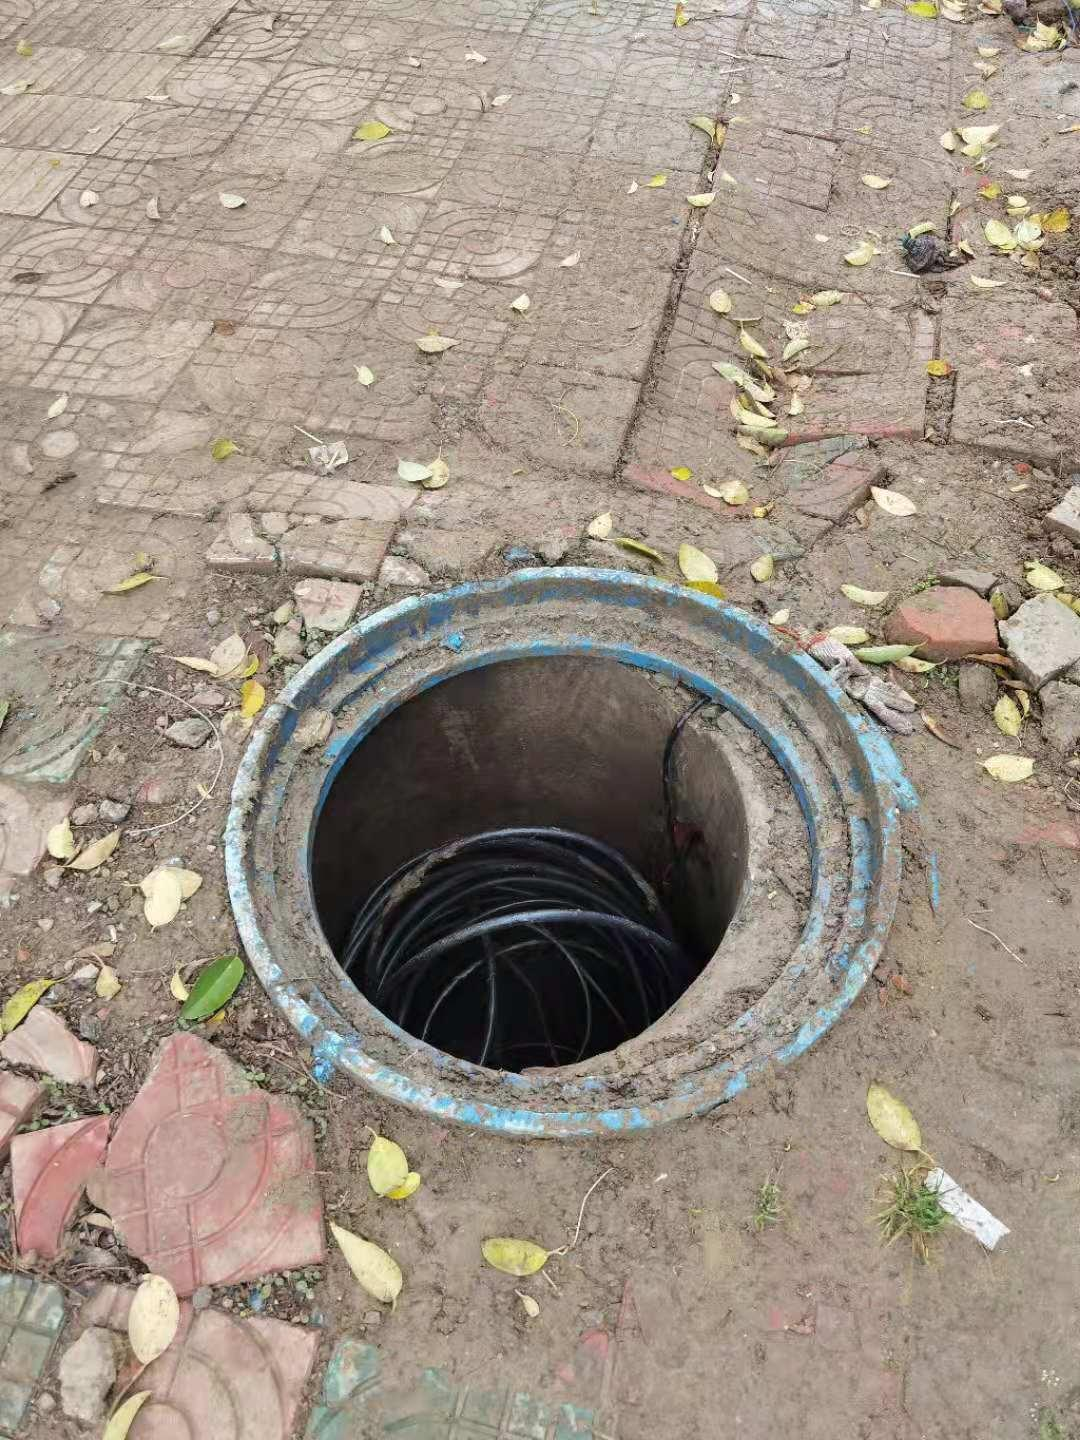wellcover: (226, 583, 929, 1155)
